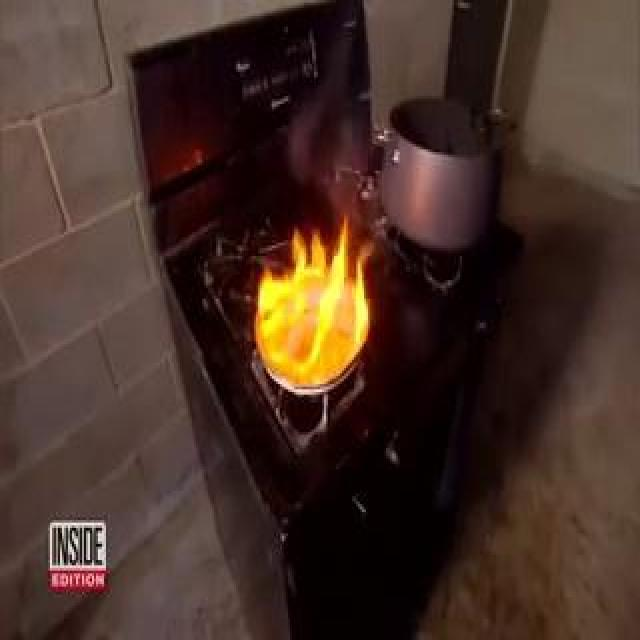Fire: (250, 173, 386, 403)
